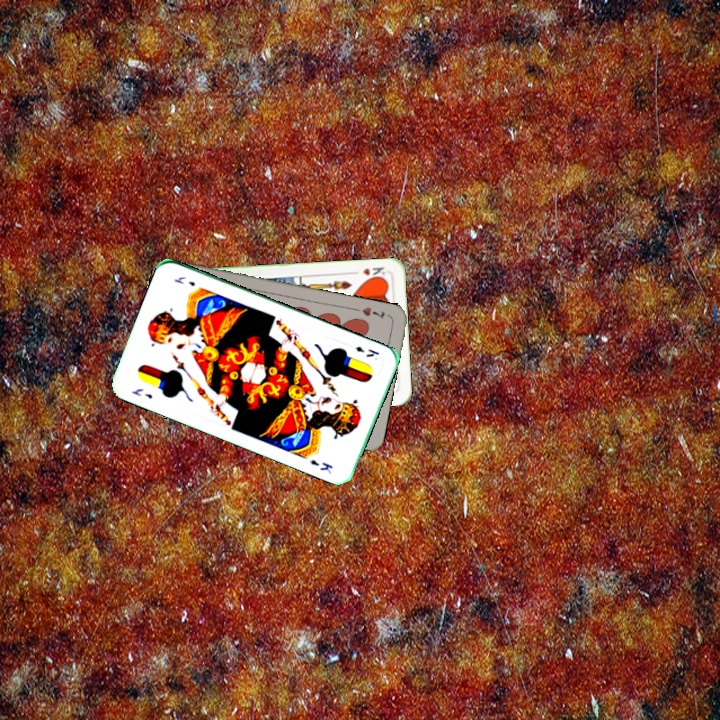EK: (352, 342, 382, 360), (128, 384, 155, 401)
H7: (358, 303, 387, 321)
HK: (349, 263, 387, 282)
